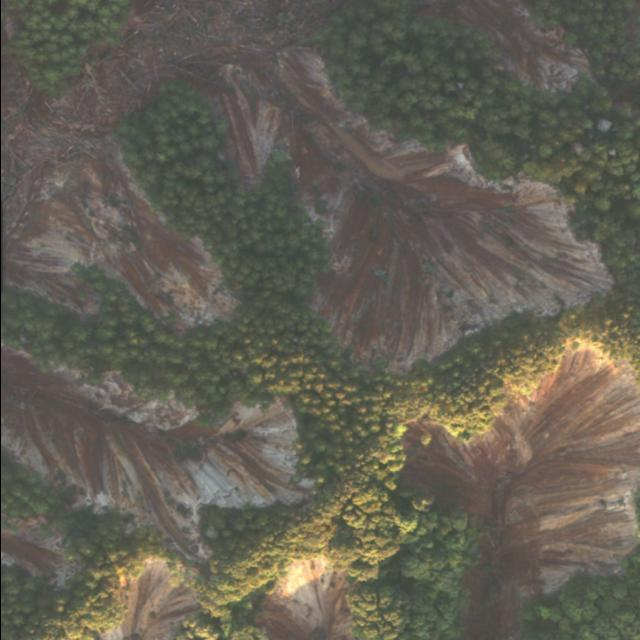landslide: (208, 48, 611, 367), (402, 349, 639, 640), (0, 348, 307, 561), (2, 132, 232, 328), (48, 0, 343, 130), (414, 0, 588, 89), (259, 563, 349, 640), (119, 566, 193, 640), (0, 516, 75, 586)
